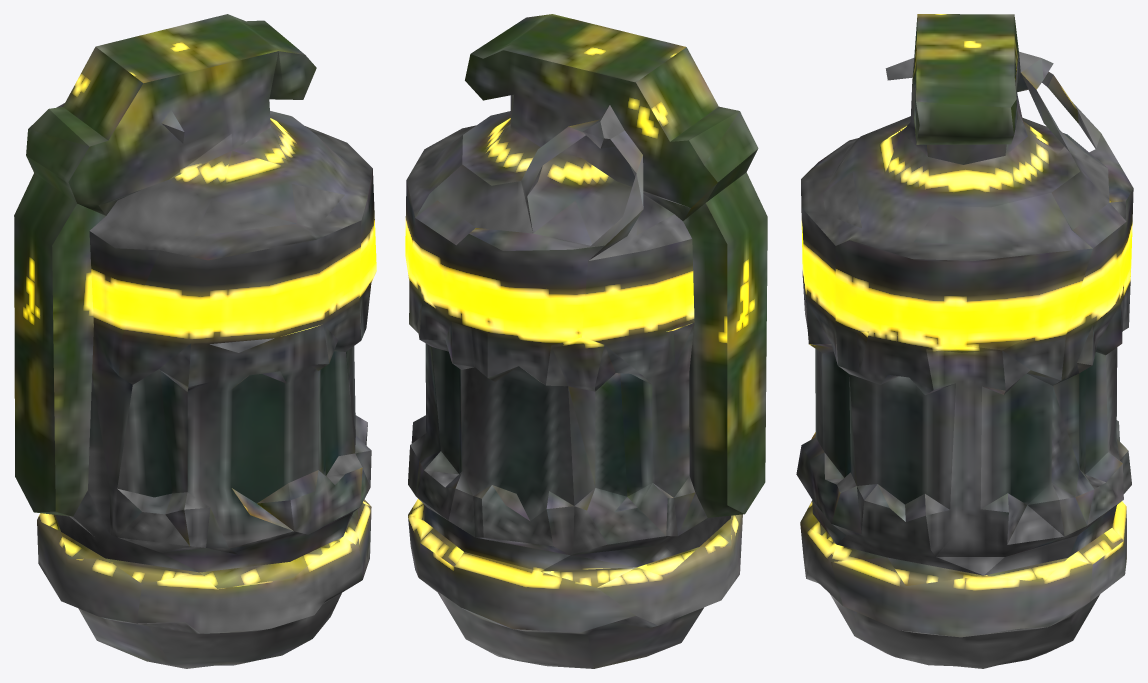
The picture shows the model from 3 angles, left to right: view 1: azimuth 30°, elevation 25°; view 2: azimuth 150°, elevation 25°; view 3: azimuth 270°, elevation 25°; orthographic projection.
Visible parts, largest first — view 1: body; view 2: body; view 3: body.
Part boxes in pixels (left/top/right/bottom): body: left=14, top=14, right=376, bottom=668; body: left=405, top=14, right=767, bottom=668; body: left=796, top=14, right=1133, bottom=668.
Bounding box in the file's own units: 0.1414 × 0.248 × 0.1308.
Materials: 1 (1 with a texture image).
